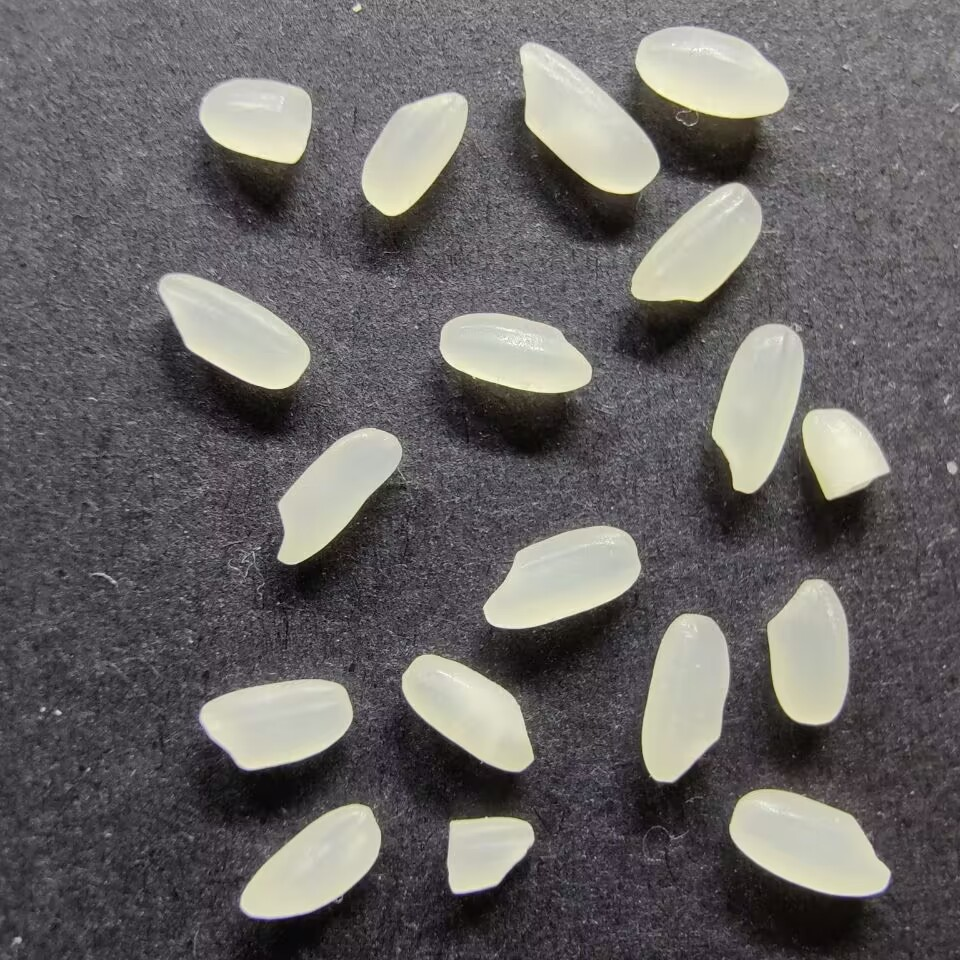broken: (195, 76, 312, 166), (799, 406, 891, 500), (442, 815, 536, 894)
rice: (516, 40, 661, 196), (155, 269, 312, 391), (727, 787, 894, 898), (273, 425, 401, 566), (236, 800, 381, 921), (480, 525, 642, 630), (628, 180, 764, 305), (397, 652, 536, 774), (708, 322, 804, 496), (638, 611, 732, 785), (196, 676, 354, 772), (633, 25, 790, 120), (358, 89, 470, 217), (763, 577, 851, 726), (437, 310, 593, 394)
